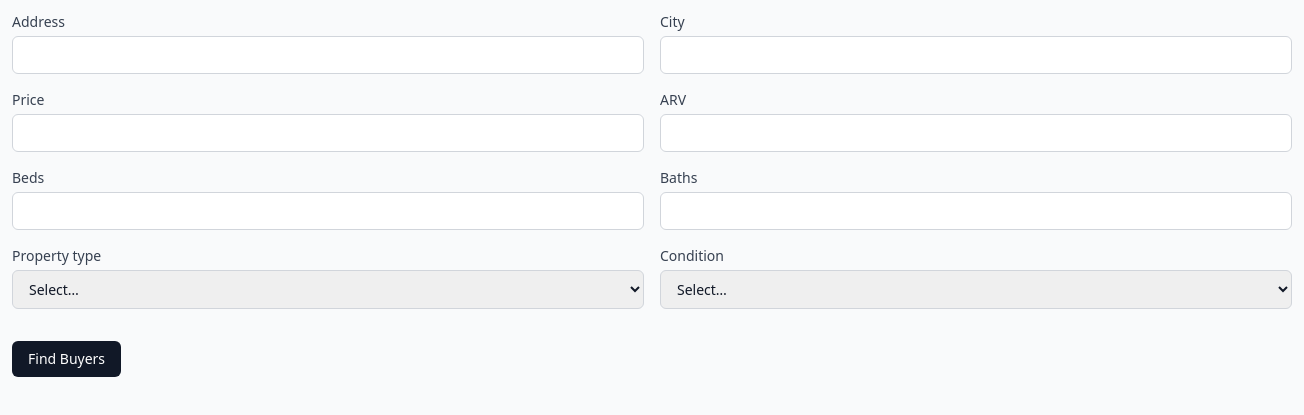
Test: PropertyForm › shows the arv validation message on submit when arv is empty/0 and does not submit (13.3)
Step 1. Type "123 Main St" into the field labelled "Address" → [328, 55], box [12,36,644,74]
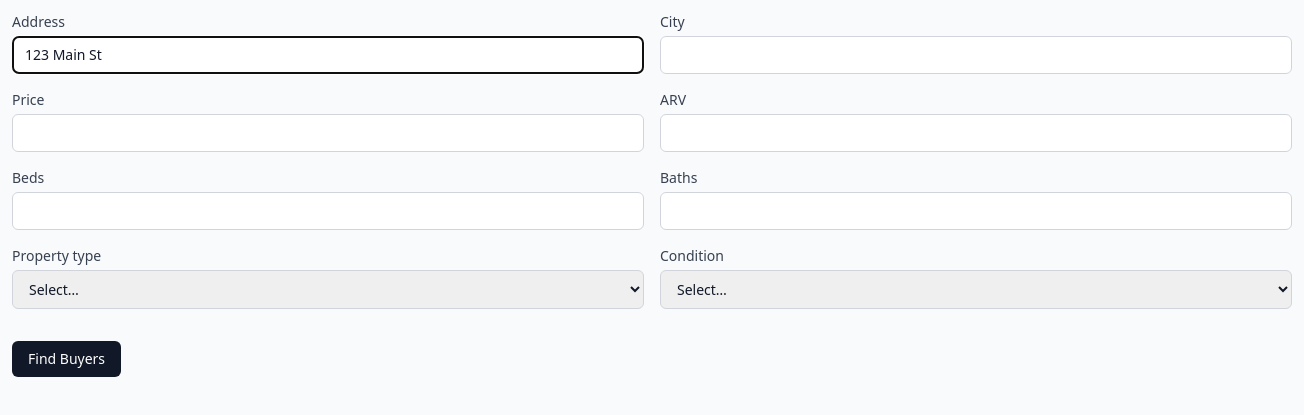
Step 2. Type "Tampa" into the field labelled "City" → [976, 55], box [660,36,1292,74]
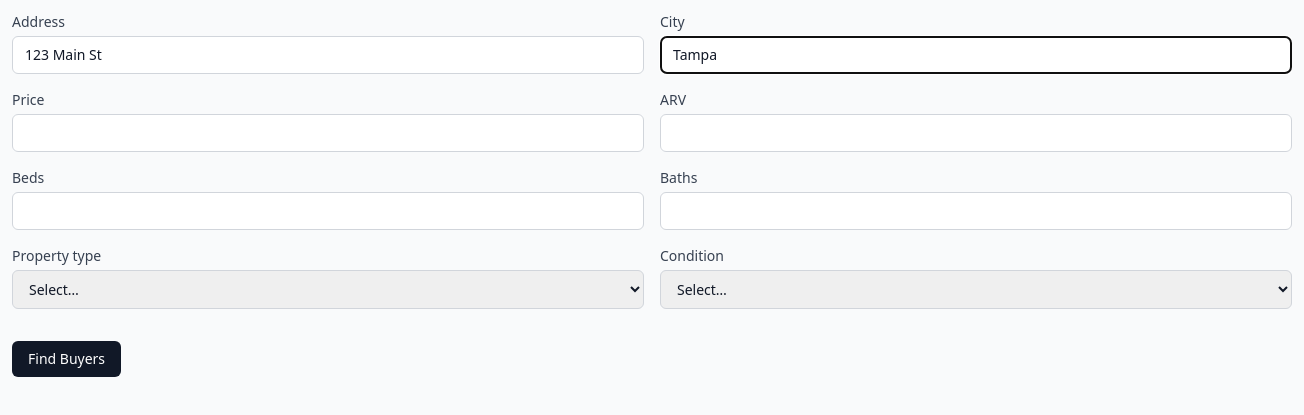
Step 3. Type "150000" into the number field labelled "Price" → [328, 133], box [12,114,644,152]
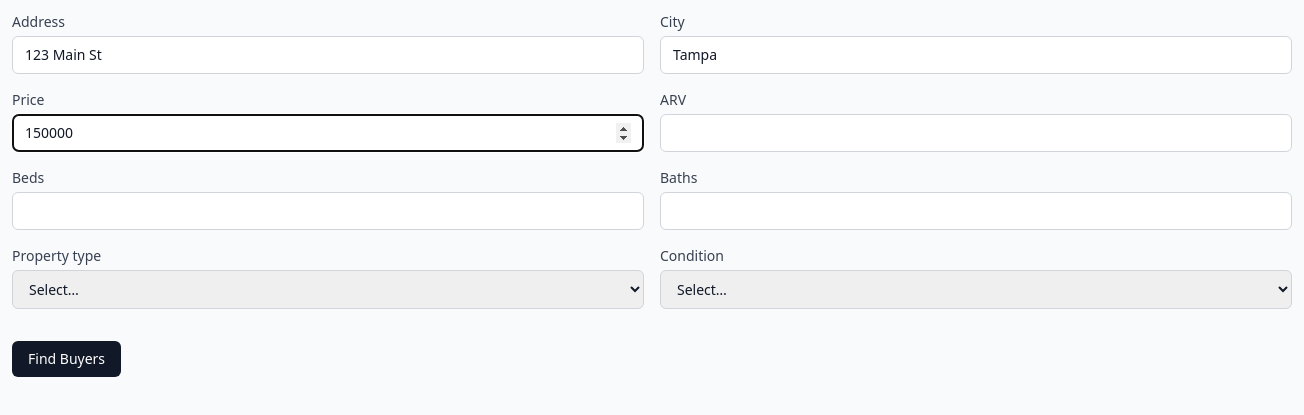
Step 4. Select "Single family" in the dropdown labelled "Property type" → [328, 290], box [12,270,644,309]
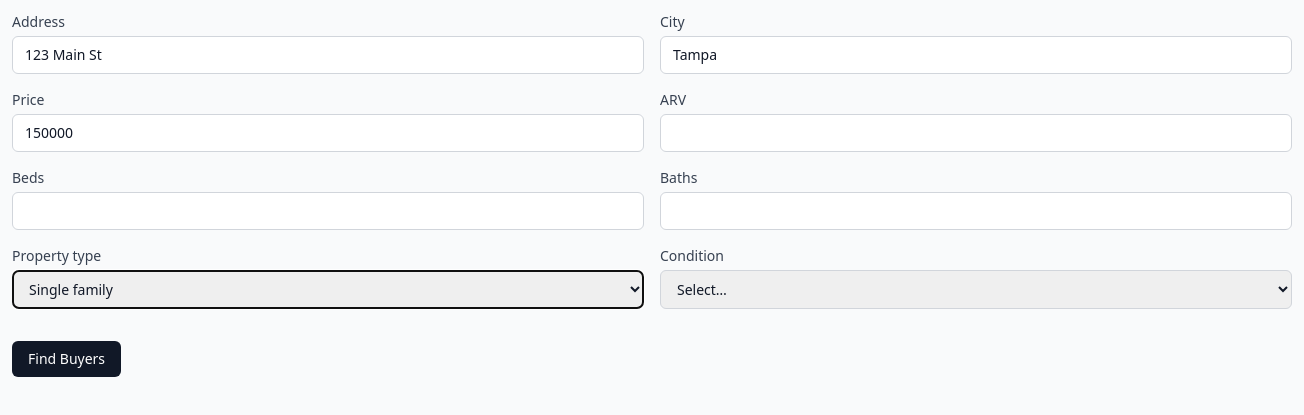
Step 5. Select "Distressed" in the dropdown labelled "Condition" → [976, 290], box [660,270,1292,309]
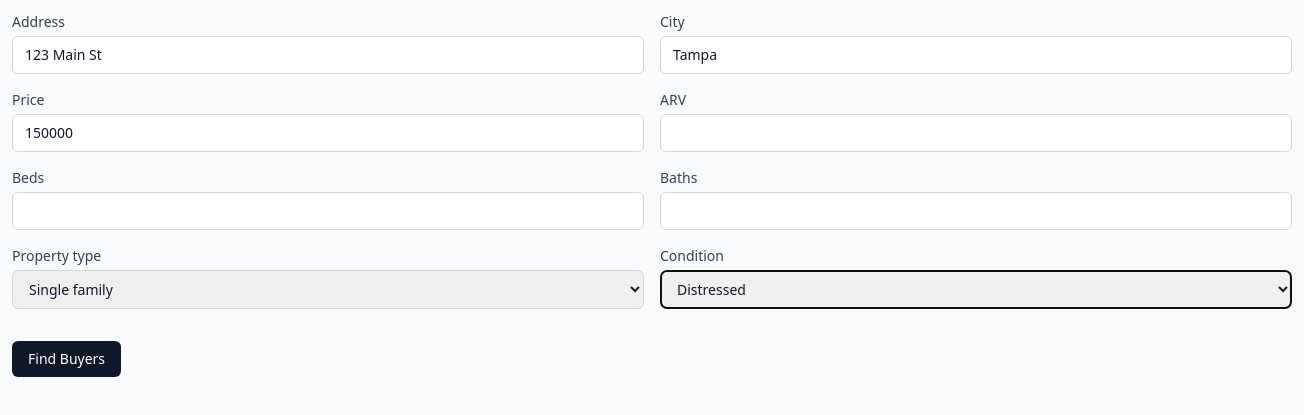
Step 6. Click the button "Find Buyers" → [67, 359], box [12,341,121,377]
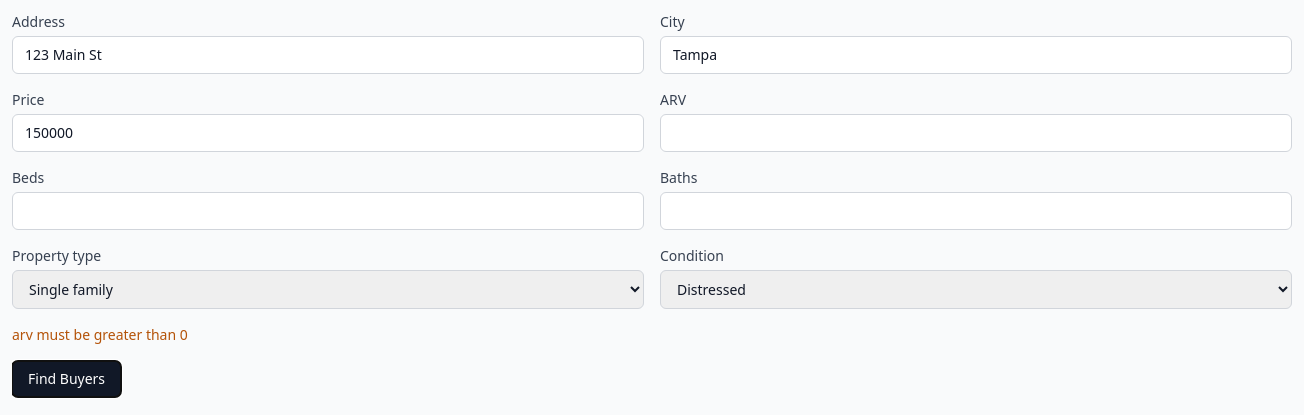
Expected: the message reads "arv must be greater than 0", [12,325,188,344]
